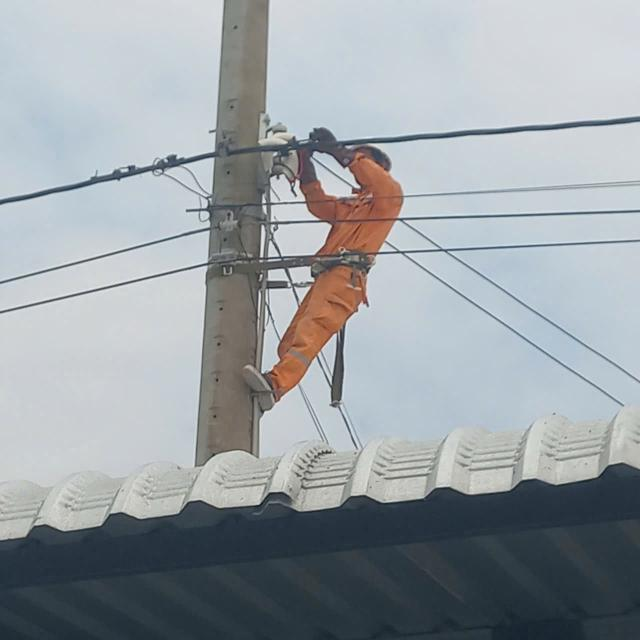gloves: (304, 117, 358, 163), (292, 139, 323, 188)
harness: (295, 249, 388, 279)
helmet: (346, 126, 402, 176)
shoes: (233, 356, 285, 415)
